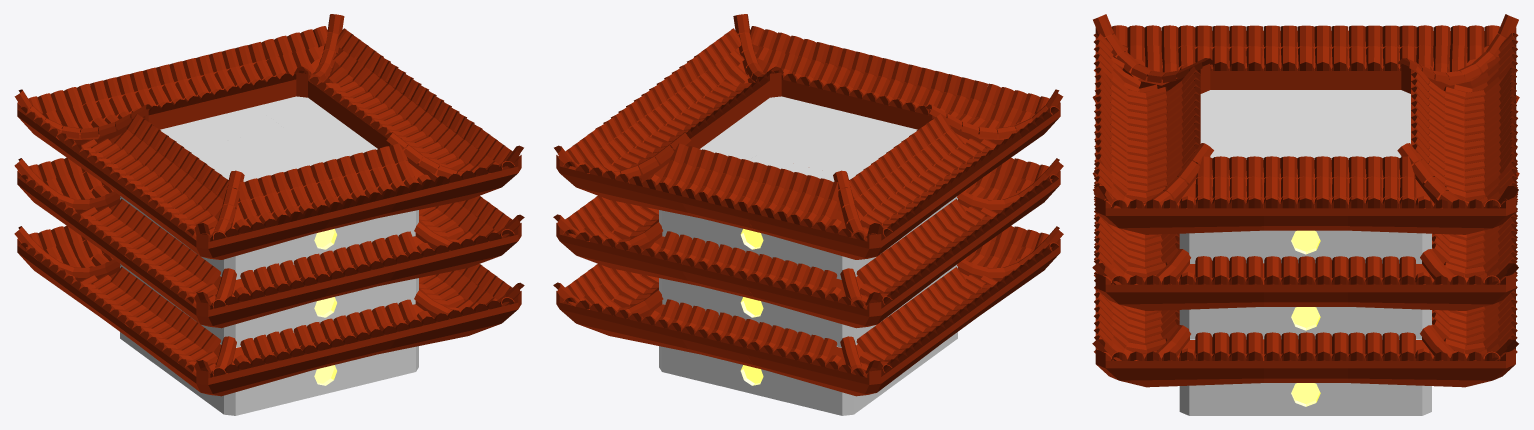
The model's file is #2 Homes.fbx.
3 views of the same model, side by side, from view 1: azimuth 30°, elevation 25°; view 2: azimuth 150°, elevation 25°; view 3: azimuth 270°, elevation 25° (orthographic). The views are drawn at different scales.
Parts seen in each view (by area): view 1: Cube.001; view 2: Cube.001; view 3: Cube.001.
Part boxes in pixels (<box>): Cube.001: <box>14,14,524,415</box>; Cube.001: <box>553,14,1063,415</box>; Cube.001: <box>1092,14,1519,415</box>.
Bounding box in the file's own units: 508 × 344 × 509.
